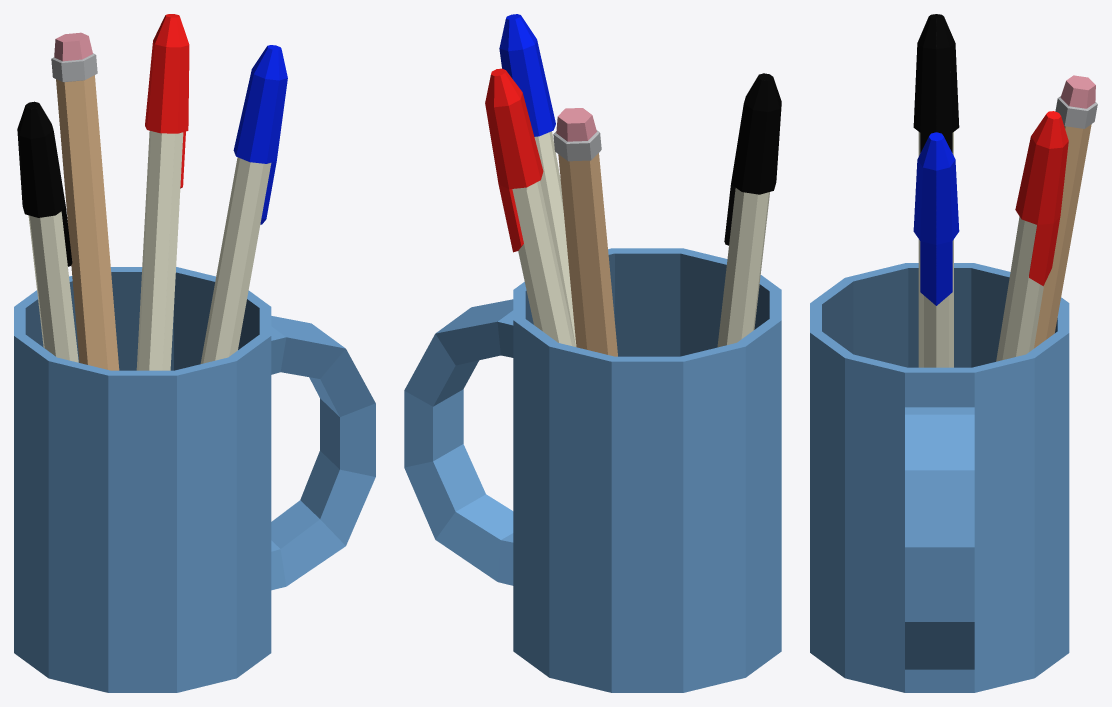
The model's file is Mug&Pencil_Blue.fbx.
3 renders of one model, left to right at view 1: azimuth 30°, elevation 25°; view 2: azimuth 150°, elevation 25°; view 3: azimuth 270°, elevation 25°, orthographic. The views are drawn at different scales.
Visible parts, largest first — view 1: Mug/Pencil.002; view 2: Mug/Pencil.002; view 3: Mug/Pencil.002.
Boxes of the visible parts, box(x1,y1,x2,y2) form: Mug/Pencil.002: box(14, 14, 375, 692); Mug/Pencil.002: box(404, 14, 781, 692); Mug/Pencil.002: box(810, 14, 1097, 692).
Size of the model in its own units: 11.25 by 17.73 by 8.14.
